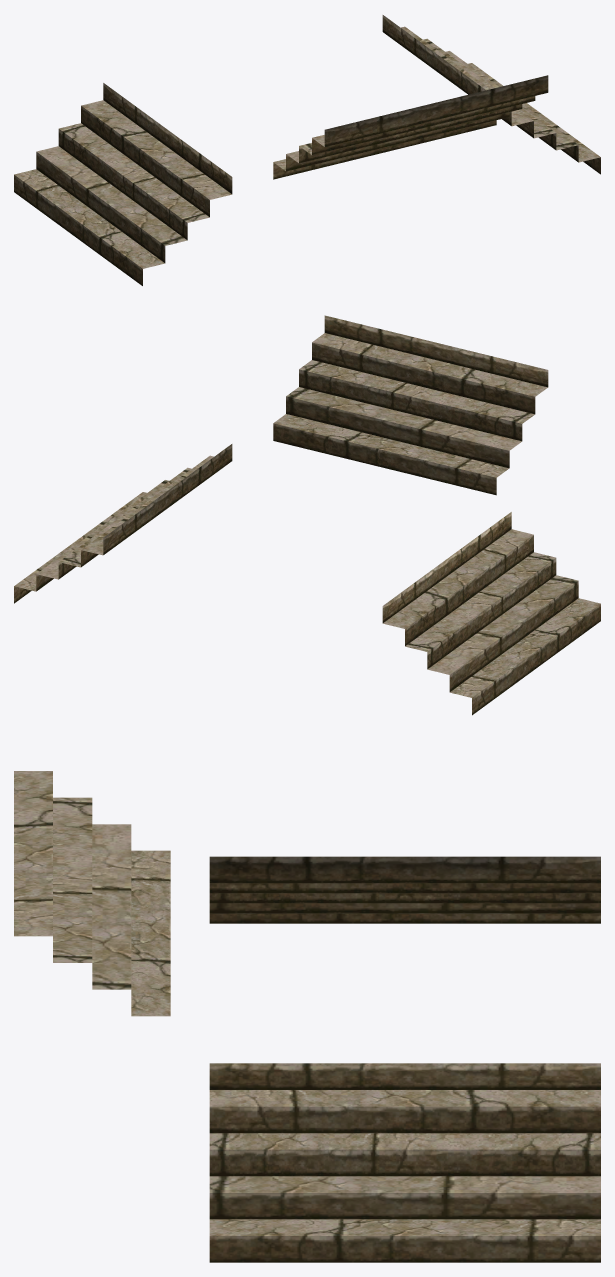
The model's file is OVERHILL_A_01_OH_TRI_STAIR_827.fbx.
3 renders of one model, top to bottom at view 1: azimuth 30°, elevation 25°; view 2: azimuth 150°, elevation 25°; view 3: azimuth 270°, elevation 25°, orthographic. The views are drawn at different scales.
Visible parts, largest first — view 1: OVERHILL_A_01_OH_TRI_STAIR_827; view 2: OVERHILL_A_01_OH_TRI_STAIR_827; view 3: OVERHILL_A_01_OH_TRI_STAIR_827.
Part boxes in pixels (box(x1,y1,x2,y2)): OVERHILL_A_01_OH_TRI_STAIR_827: box(14, 15, 600, 285); OVERHILL_A_01_OH_TRI_STAIR_827: box(14, 315, 600, 715); OVERHILL_A_01_OH_TRI_STAIR_827: box(14, 771, 600, 1262).
Bounding box in the file's own units: 82000 × 30000 × 60000.
1 material, 1 textured.
